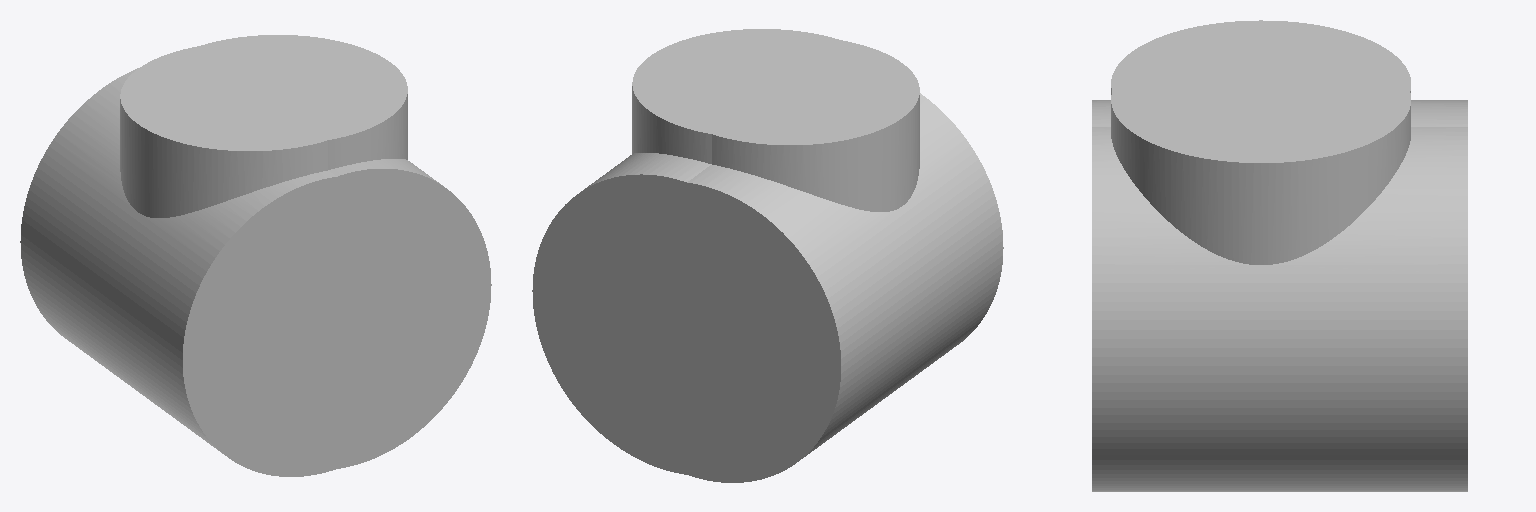
The robot description file, URDF, robot "parallel_fingers":
<?xml version="1.0" ?>
<robot name="parallel_fingers">
  <!--Generated by the ROS Workbench for FreeCAD (https://github.com/galou/freecad.workbench_ros)-->
  <link name="hand_link">
    <visual>
      <!--Body-->
      <origin rpy="0.0 -0.0 0.0" xyz="0.0 0.0 0.0"/>
      <geometry>
        <mesh filename="package://robots_description/meshes/Body.dae"/>
      </geometry>
    </visual>
    <collision>
      <origin rpy="0.0 -0.0 0.0" xyz="0.0 0.0 0.02"/>
      <geometry>
        <cylinder length="0.04" radius="0.04"/>
      </geometry>
    </collision>
  </link>
  <link name="right_finger">
    <visual>
      <!--Body001-->
      <origin rpy="-3.141592653589793 1.5707963267948966 0.0" xyz="0.0 0.0 0.0"/>
      <geometry>
        <mesh filename="package://robots_description/meshes/Body001.dae"/>
      </geometry>
    </visual>
    <collision>
      <origin rpy="-3.141592653589793 1.5707963267948966 0.0" xyz="-3.55271e-18 -0.03 -2.66454e-18"/>
      <geometry>
        <box size="0.01 0.06 0.04"/>
      </geometry>
    </collision>
  </link>
  <link name="left_finger">
    <visual>
      <!--Body001-->
      <origin rpy="3.141592653589793 -1.5707963267948966 0.0" xyz="0.0 0.0 0.0"/>
      <geometry>
        <mesh filename="package://robots_description/meshes/Body001.dae"/>
      </geometry>
    </visual>
    <collision>
      <origin rpy="3.141592653589793 -1.5707963267948966 0.0" xyz="-3.55271e-18 -0.03 2.66454e-18"/>
      <geometry>
        <box size="0.01 0.06 0.04"/>
      </geometry>
    </collision>
  </link>
  <joint name="hand_right_finger" type="prismatic">
    <parent link="hand_link"/>
    <child link="right_finger"/>
    <origin rpy="1.5707963267948963 2.220446049250313e-16 1.5707963267948963" xyz="0.005 0.0 0.0"/>
    <axis xyz="0 0 1"/>
    <limit effort="0.0" lower="0.0" upper="0.0" velocity="0.0"/>
  </joint>
  <joint name=" hand_left_finger" type="prismatic">
    <parent link="hand_link"/>
    <child link="left_finger"/>
    <origin rpy="1.5707963267948963 -2.220446049250313e-16 -1.5707963267948963" xyz="-0.005 0.0 0.0"/>
    <axis xyz="0 0 1"/>
    <limit effort="0.0" lower="0.0" upper="0.0" velocity="0.0"/>
    <mimic joint="hand_right_finger" multiplier="1.0" offset="0.0"/>
  </joint>
</robot>

--- Render facts (derived) ---
Views: 3 orthographic renders of the robot side by side, from view 1: azimuth 30°, elevation 25°; view 2: azimuth 150°, elevation 25°; view 3: azimuth 270°, elevation 25°.
Model parallel_fingers with 3 links and 2 joints (2 prismatic), rooted at hand_link, posed every joint at zero.
Visible links, largest first — view 1: left_finger, right_finger; view 2: left_finger, right_finger; view 3: right_finger, left_finger.
Boxes of the visible links, x1,y1,x2,y2 form: left_finger: [20, 42, 461, 476]; right_finger: [149, 35, 491, 469]; left_finger: [561, 36, 1003, 482]; right_finger: [532, 29, 891, 475]; right_finger: [1092, 36, 1467, 491]; left_finger: [1092, 20, 1467, 146].
Bounding box of the posed robot: 0.11 × 0.1 × 0.11 m (x, y, z).
Meshes: 2 distinct files referenced, 2 mesh visuals loaded (1 Collada DAE); not drawn: 1 (file found but could not be loaded).